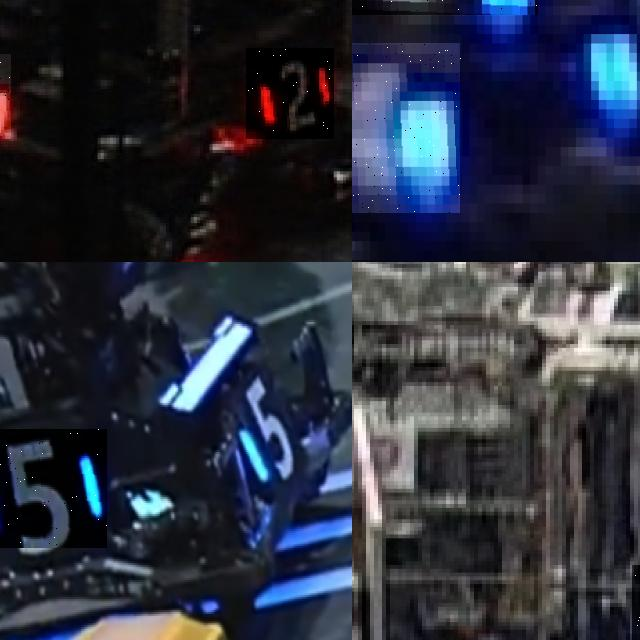B4: (352, 43, 461, 212)
B5: (0, 429, 107, 547)
R2: (246, 48, 334, 139)
